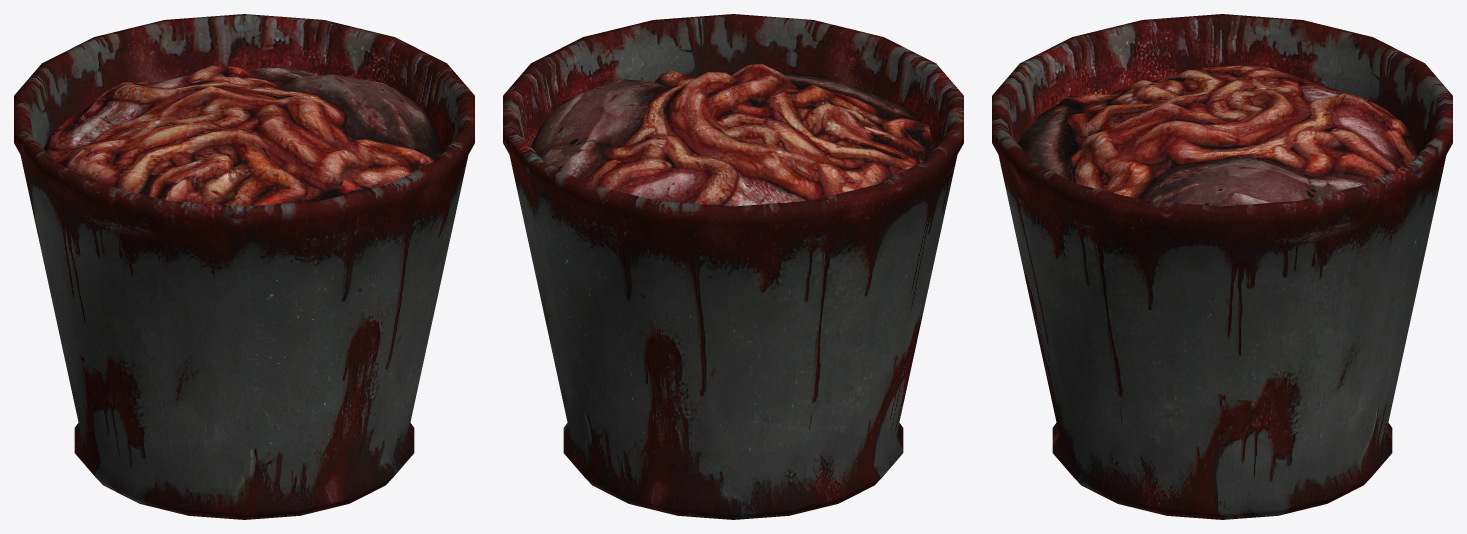
Rendered from bucket.fbx.
3 renders of one model, left to right at view 1: azimuth 30°, elevation 25°; view 2: azimuth 150°, elevation 25°; view 3: azimuth 270°, elevation 25°, orthographic.
Parts seen in each view (by area): view 1: grp1; view 2: grp1; view 3: grp1.
Boxes of the visible parts, x1,y1,x2,y2 form: grp1: (14,14,474,519); grp1: (503,14,963,519); grp1: (992,14,1452,519).
Bounding box in the file's own units: 44.7 × 36.92 × 44.02.
Materials: 1 (1 with a texture image).
